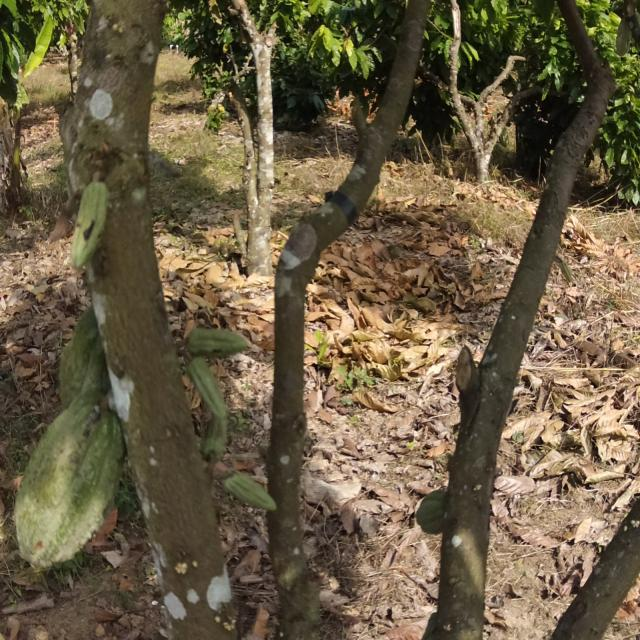Immature: (174, 320, 253, 432), (67, 182, 124, 272), (209, 453, 282, 523)
Mature_Unripe: (4, 317, 150, 588)
